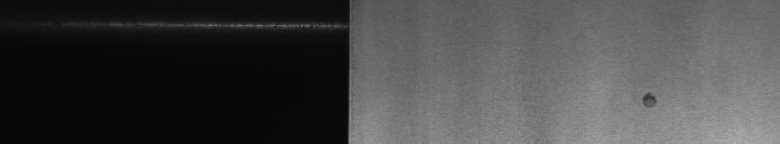fi: (634, 84, 660, 115)
